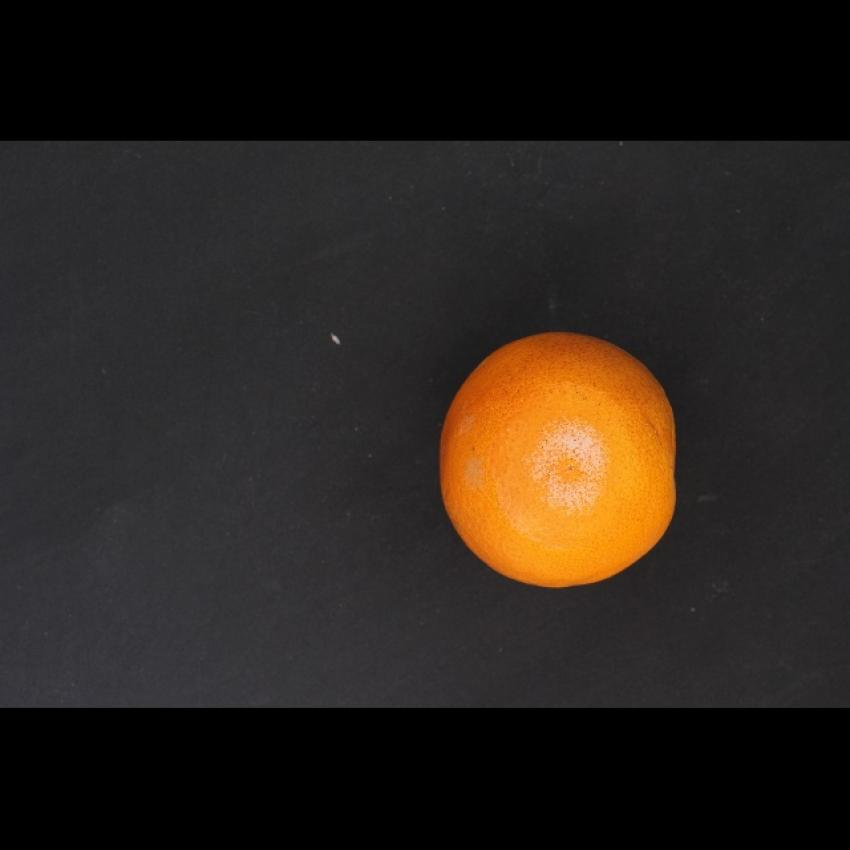Mal estado: (430, 320, 692, 602)
